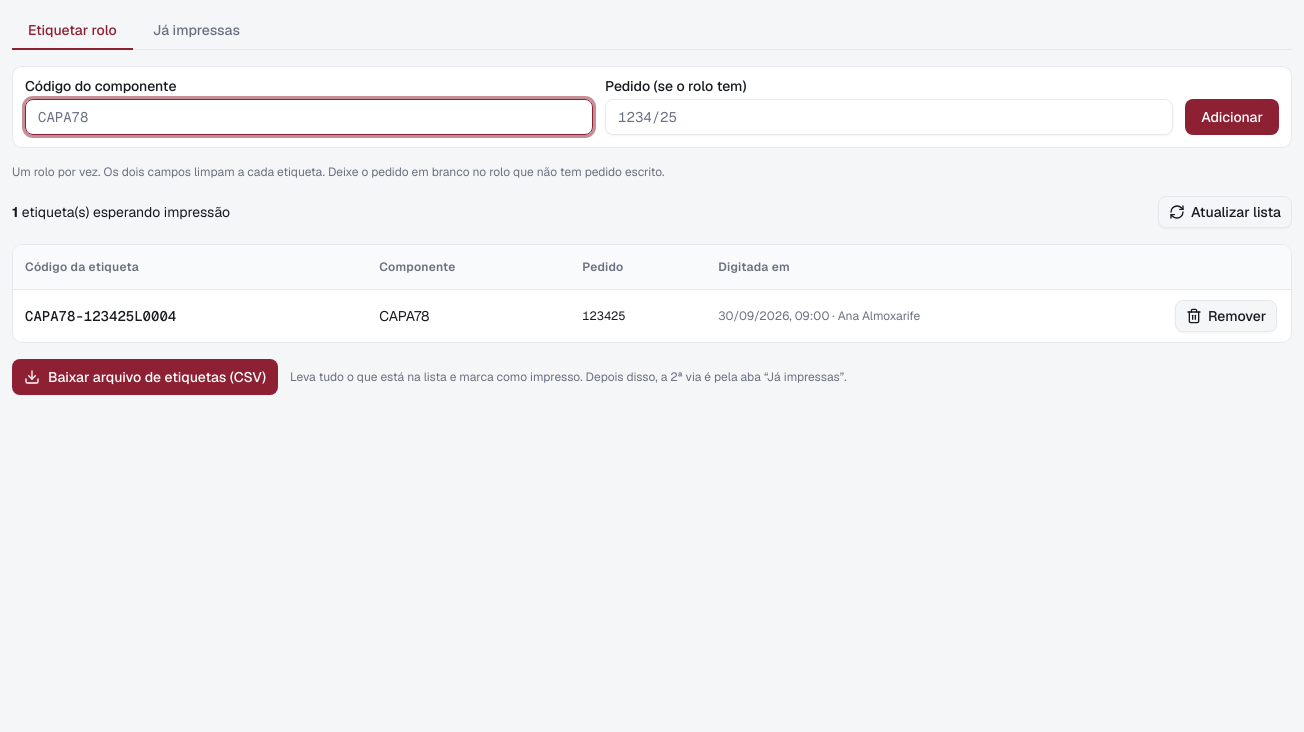
Test: a conexão que cai no meio da ação › ao remover, diz que a etiqueta pode já ter saído, e a linha fica na tela
Click the button "Remover" at (1226, 316), box 1175,300 -> 1277,332
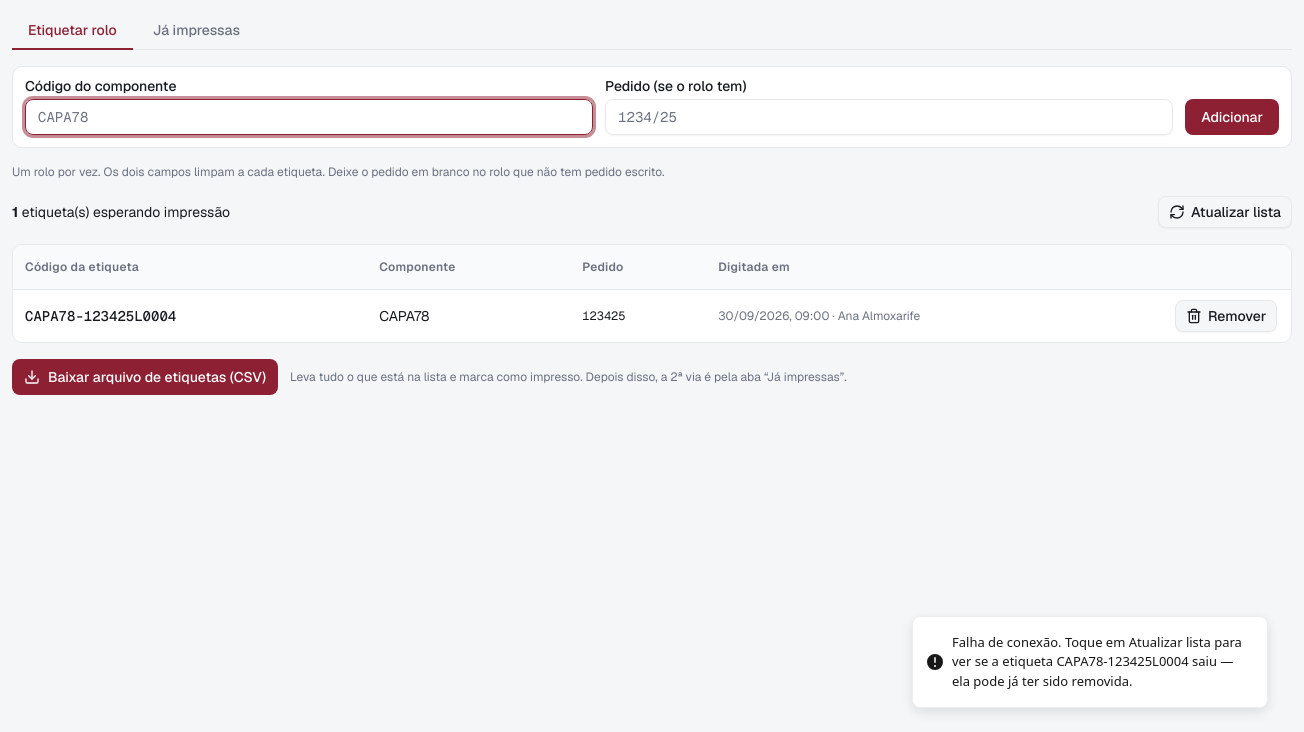
Expected: the text "Falha de conexão" shows "CAPA78-123425L0004", 952,632 -> 1242,690
Expected: the text "Falha de conexão" shows "pode já ter sido removida", 952,632 -> 1242,690
